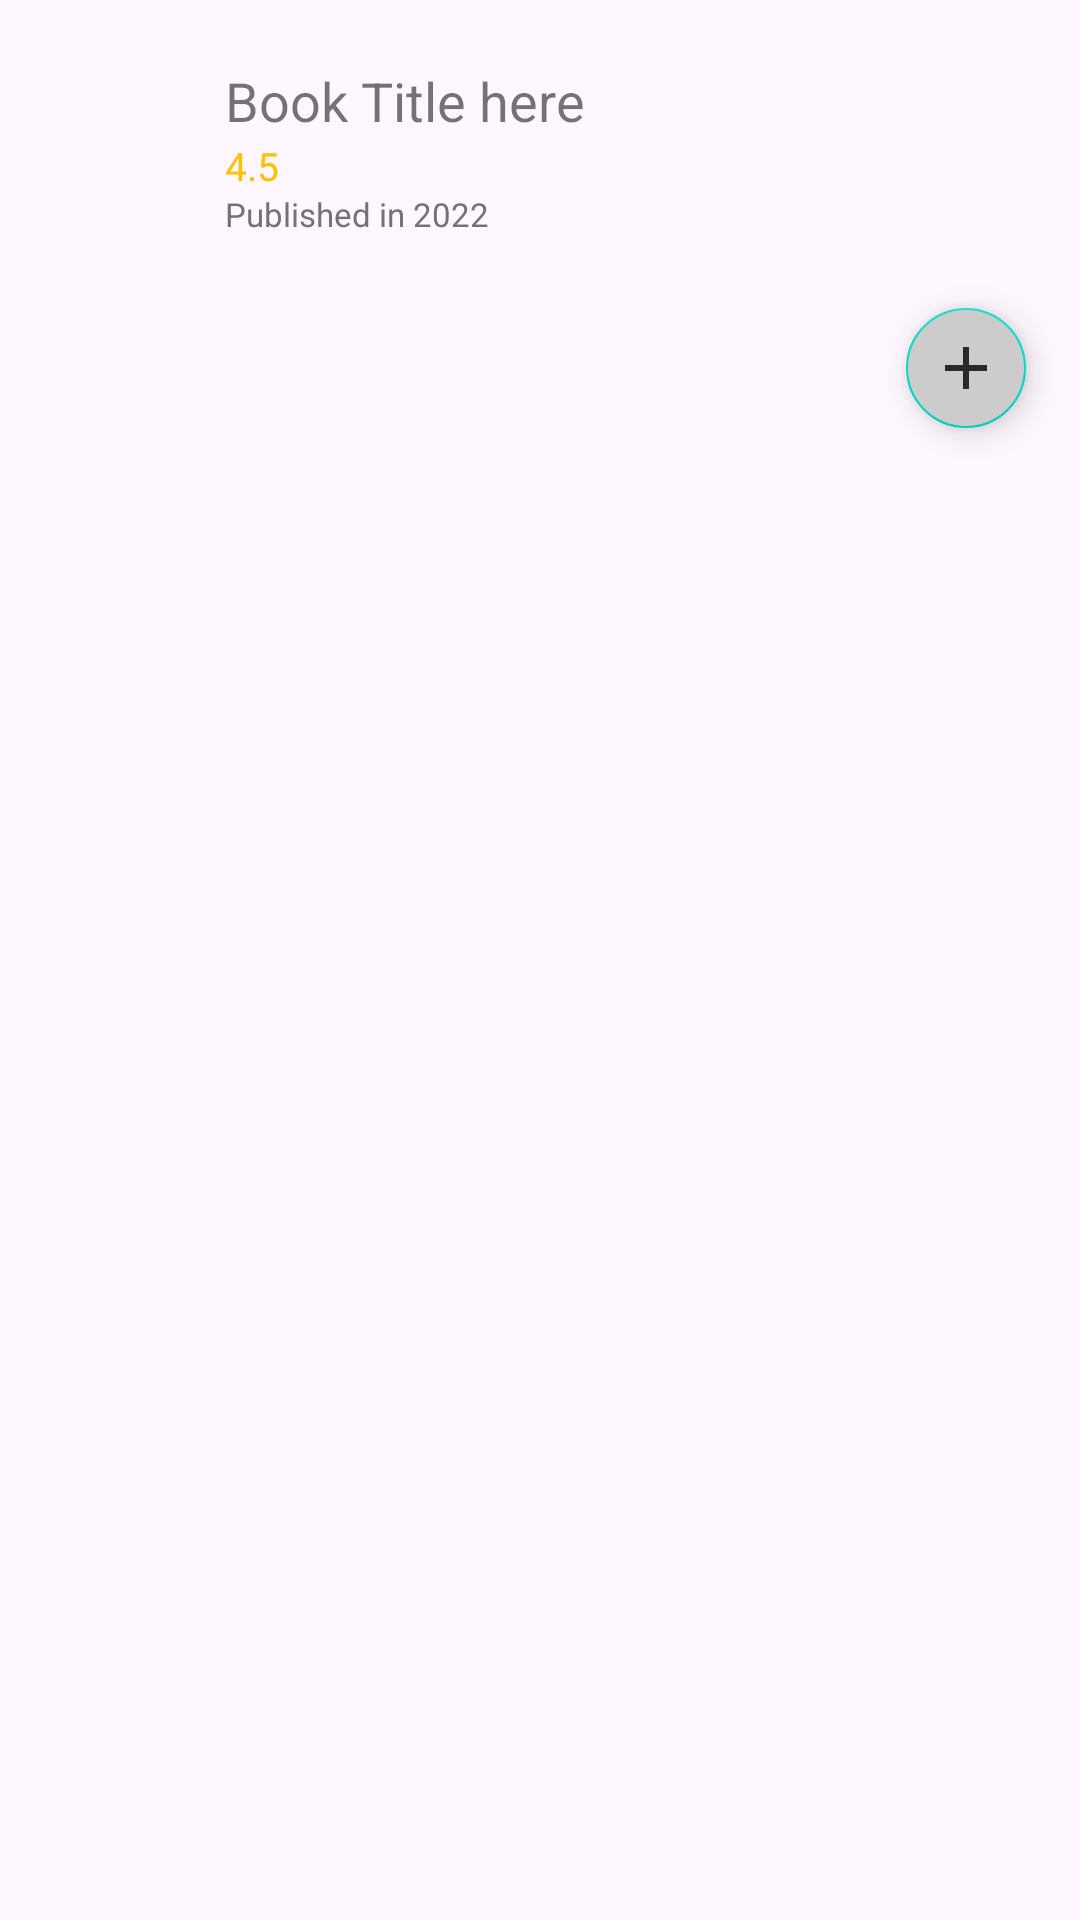

Locate icon controls on the screen. Image size 1080 × 1920, boxes as [left=x1, top=y1, right=x2, bottom=y2].
add: [left=906, top=308, right=1029, bottom=430]
